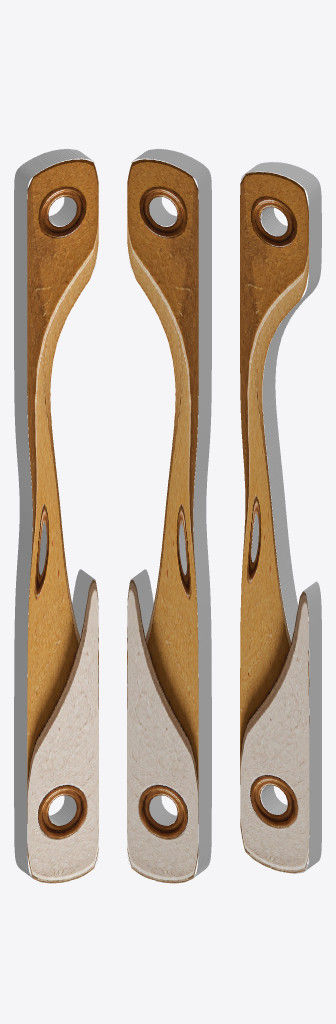
File: UpperLeg.glb
3 views of the same model, side by side, from view 1: azimuth 30°, elevation 25°; view 2: azimuth 150°, elevation 25°; view 3: azimuth 330°, elevation 25° (orthographic). The views are drawn at different scales.
Visible parts, largest first — view 1: PaperVolume; view 2: PaperVolume; view 3: PaperVolume.
Boxes of the visible parts, left/top/right/bottom form: PaperVolume: left=14, top=149, right=98, bottom=883; PaperVolume: left=127, top=149, right=211, bottom=883; PaperVolume: left=240, top=162, right=321, bottom=873.
Bounding box in the file's own units: 0.25 × 3.35 × 0.08.
3 materials, 2 textured.
